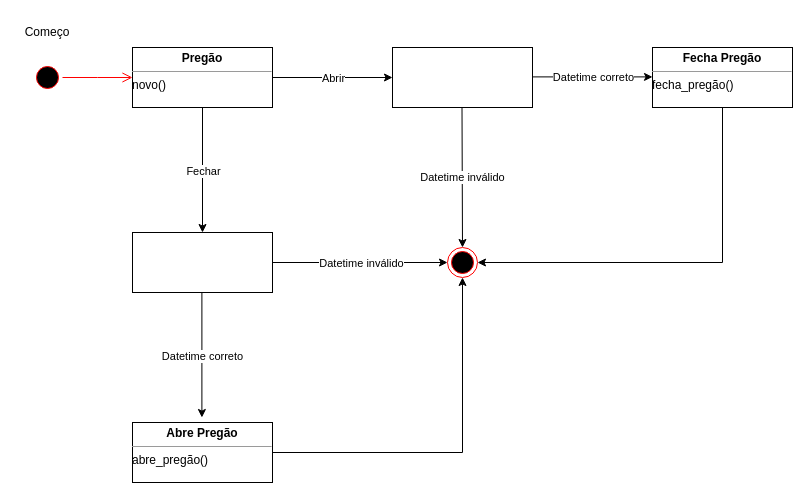
Image size: 810x500. Some labels were removed from this diagram. Here are the shapes that lost their labels. From the top down, the centre of each, then its label:
the point at 462,77: Verifica datetime verif_abrir()
the point at 202,262: Verifica datetime verif_fechar()
